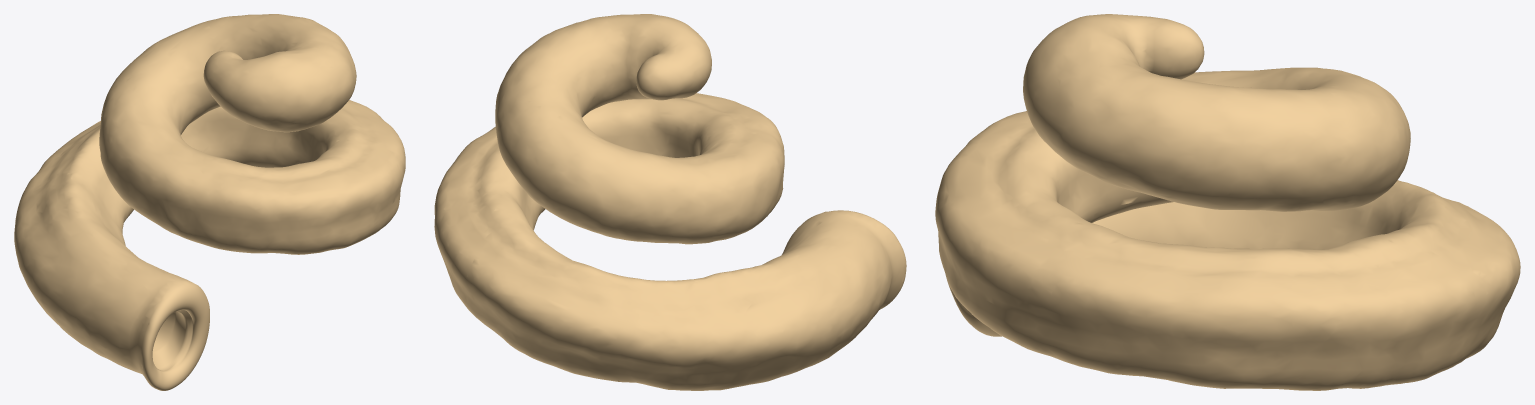
Rendered from echovenator_cochlea.glb.
3 views of the same model, side by side, from view 1: azimuth 30°, elevation 25°; view 2: azimuth 150°, elevation 25°; view 3: azimuth 270°, elevation 25° (orthographic). The views are drawn at different scales.
Visible parts, largest first — view 1: Echovenator_sandersi_Cochlea_Hollow; view 2: Echovenator_sandersi_Cochlea_Hollow; view 3: Echovenator_sandersi_Cochlea_Hollow.
Part boxes in pixels (x1=…): Echovenator_sandersi_Cochlea_Hollow: x1=14, y1=14, x2=405, y2=390; Echovenator_sandersi_Cochlea_Hollow: x1=434, y1=14, x2=906, y2=390; Echovenator_sandersi_Cochlea_Hollow: x1=935, y1=14, x2=1520, y2=390.
Bounding box in the file's own units: 9.1 × 6.77 × 8.87.
